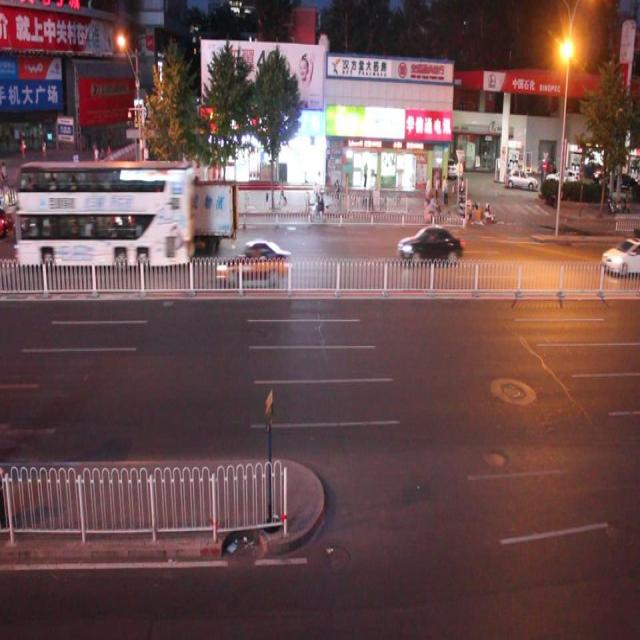bus: (153, 184, 240, 259)
car: (214, 236, 290, 286), (397, 223, 465, 268), (120, 210, 182, 251), (13, 204, 69, 248), (86, 200, 129, 242), (598, 237, 640, 279), (47, 183, 80, 219)
van: (15, 157, 195, 273)
